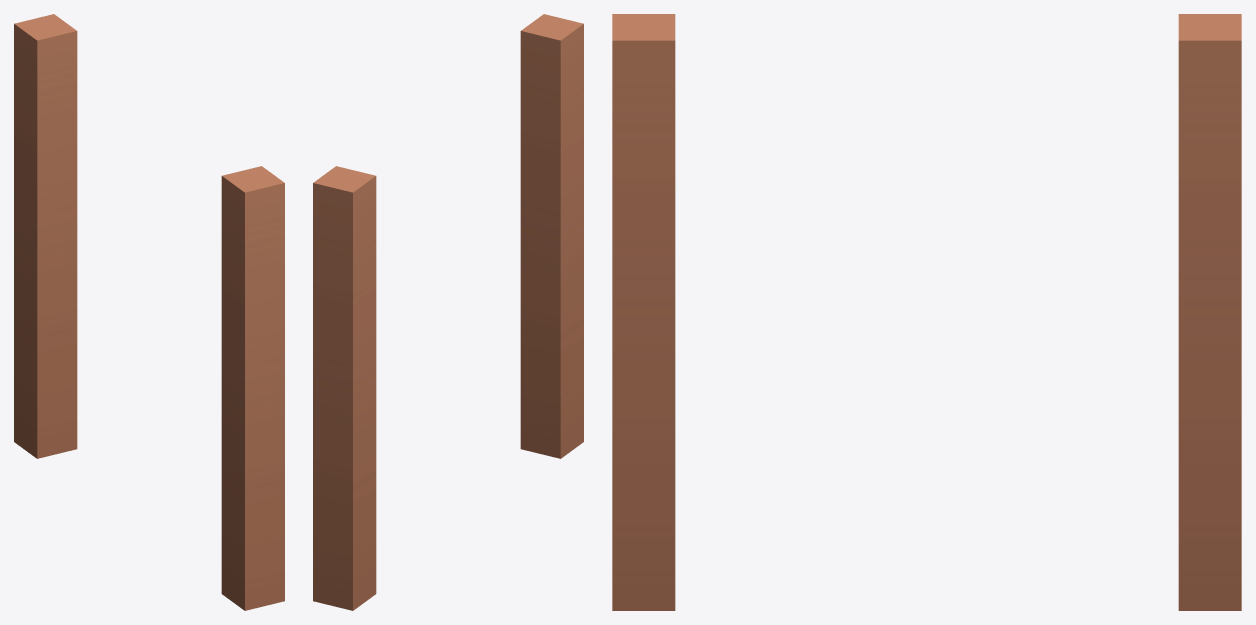
File: poles.fbx
The picture shows the model from 3 angles, left to right: view 1: azimuth 30°, elevation 25°; view 2: azimuth 150°, elevation 25°; view 3: azimuth 270°, elevation 25°; orthographic projection. The views are drawn at different scales.
Visible parts, largest first — view 1: poles; view 2: poles; view 3: poles.
Part boxes in pixels (x1,y1,x2,y2): poles: (14,14,284,610); poles: (313,14,583,610); poles: (612,14,1241,610).
Bounding box in the file's own units: 10 × 100 × 100.
Materials: 1 (1 with a texture image).
